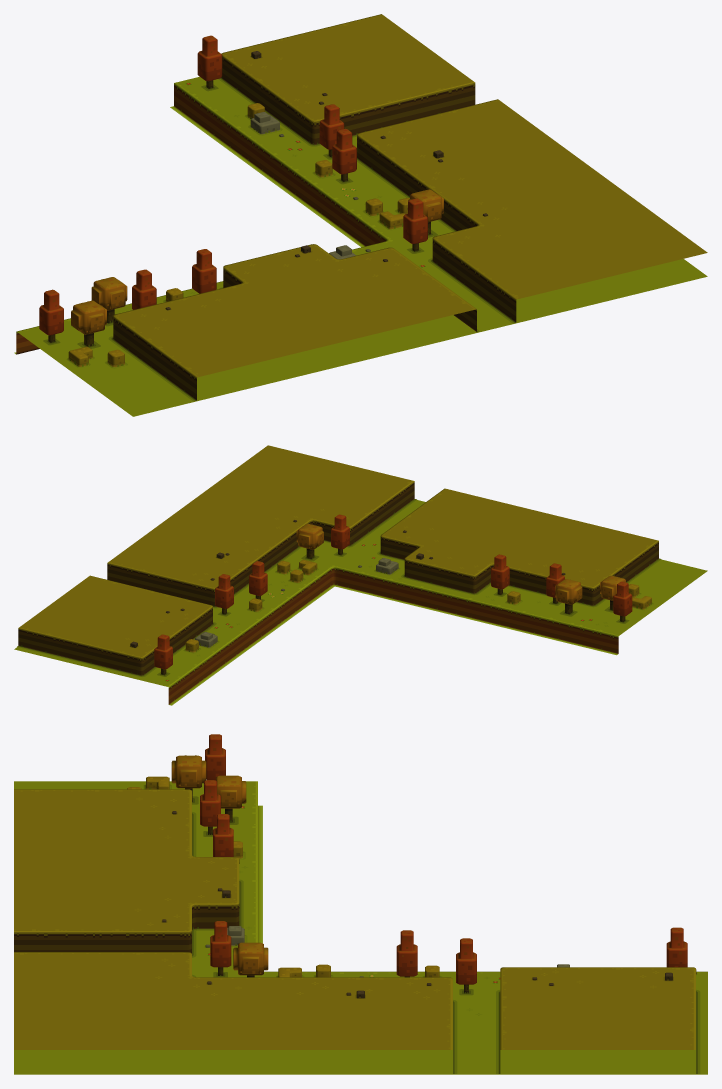
The model's file is C_grass2_out_LU.fbx.
3 views of the same model, one above another, from view 1: azimuth 30°, elevation 25°; view 2: azimuth 150°, elevation 25°; view 3: azimuth 270°, elevation 25° (orthographic). The views are drawn at different scales.
Parts seen in each view (by area): view 1: C_grass2_out_LU; view 2: C_grass2_out_LU; view 3: C_grass2_out_LU.
Part boxes in pixels (x1,y1,x2,y2): C_grass2_out_LU: (14,14,707,416); C_grass2_out_LU: (14,445,707,705); C_grass2_out_LU: (14,734,707,1074).
Size of the model in its own units: 117 by 14.32 by 117.
